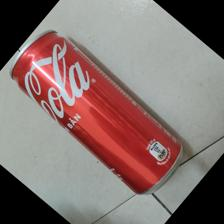Coca: (8, 28, 185, 198)
